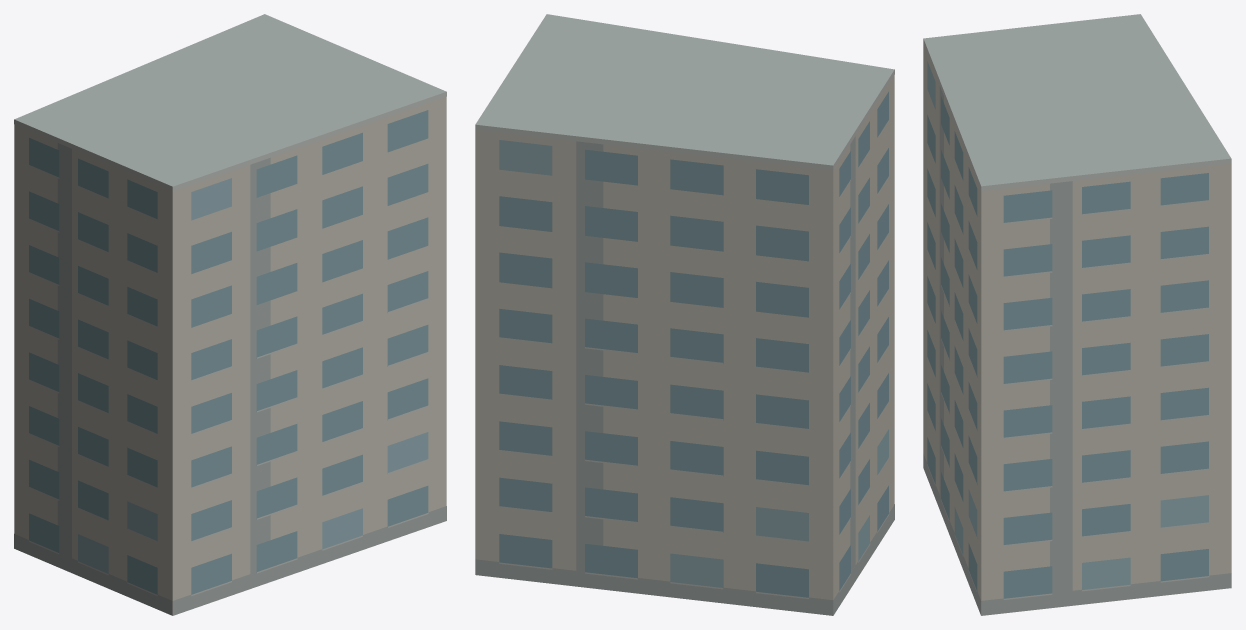
File: survey-upis-32882027.glb
3 views of the same model, side by side, from view 1: azimuth 30°, elevation 25°; view 2: azimuth 150°, elevation 25°; view 3: azimuth 270°, elevation 25° (orthographic). The views are drawn at different scales.
Parts seen in each view (by area): view 1: survey-upis-32882027.tmp; view 2: survey-upis-32882027.tmp; view 3: survey-upis-32882027.tmp.
Part boxes in pixels (left/top/right/bottom): survey-upis-32882027.tmp: left=14, top=14, right=446, bottom=615; survey-upis-32882027.tmp: left=475, top=14, right=894, bottom=615; survey-upis-32882027.tmp: left=923, top=14, right=1231, bottom=615.
Size of the model in its own units: 18.38 by 21.35 by 13.89.
